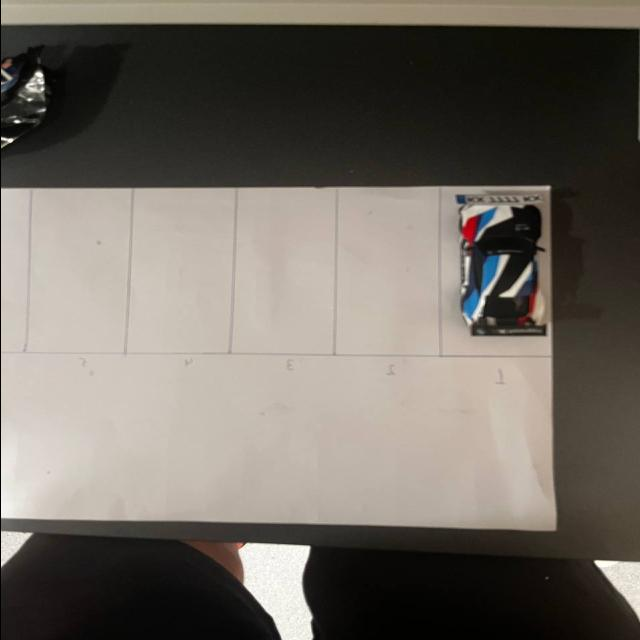cars: (442, 185, 555, 357)
